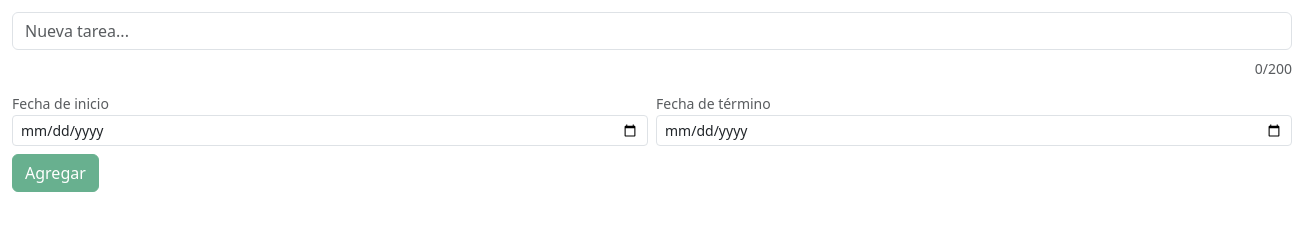
it: validates empty titles, max length and dates next to the field
The width and height of the screenshot is (1304, 234).
Expected: the button "Agregar" is disabled, [12,154,99,192]
Type "Tarea" into the field with placeholder "Nueva tarea...".
click(652, 31); type("Tarea")  # box [12,12,1292,50]
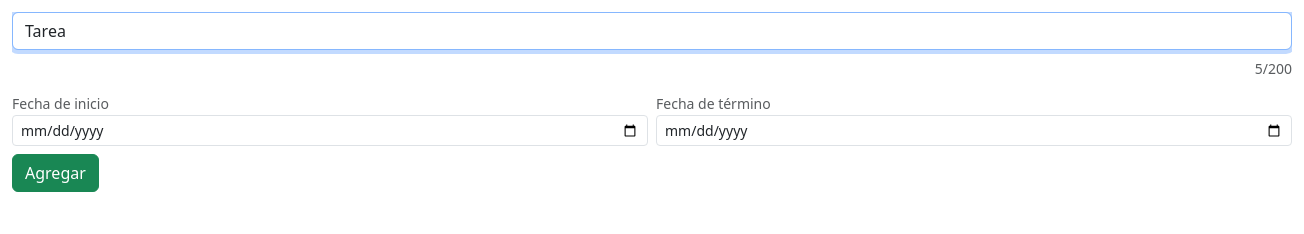
Type "2026-11-20" into the date field labelled "Fecha de inicio".
click(330, 130); type("2026-11-20")  # box [12,115,648,146]
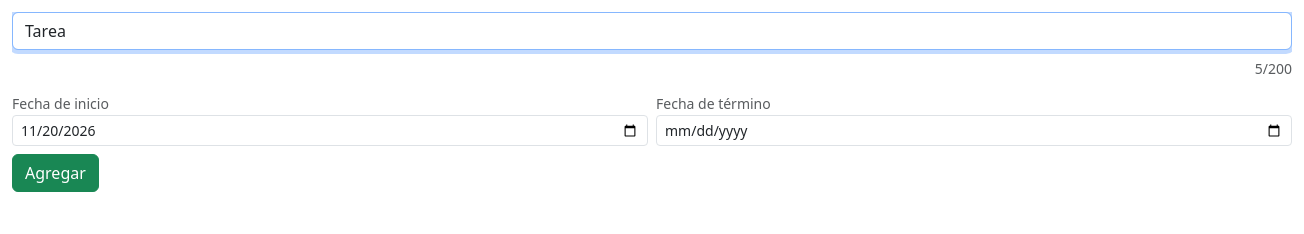
Type "2026-11-19" into the date field labelled "Fecha de término".
click(974, 130); type("2026-11-19")  # box [656,115,1292,146]
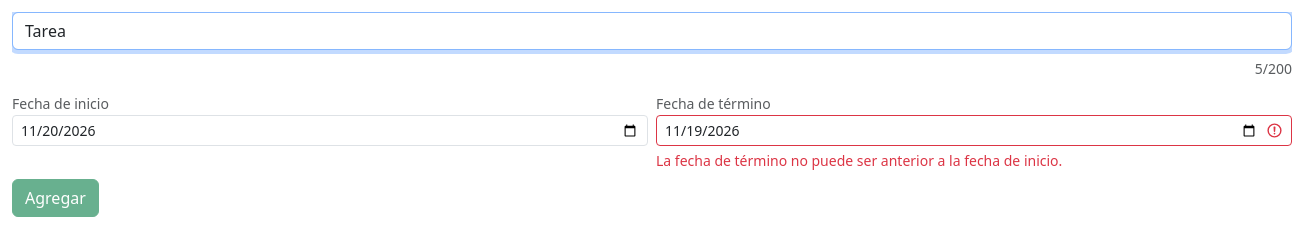
Expected: the text "no puede ser anterior" is shown, [656,151,1062,170]
Expected: the button "Agregar" is disabled, [12,179,99,217]
